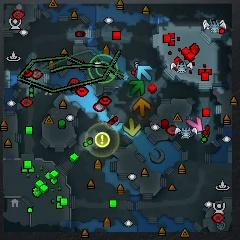Other: (95, 132, 110, 147)
x1: (187, 117, 203, 132)
x2: (123, 117, 142, 137)
x3: (137, 65, 153, 80)
x4: (129, 79, 145, 96)
x5: (133, 97, 151, 118)
